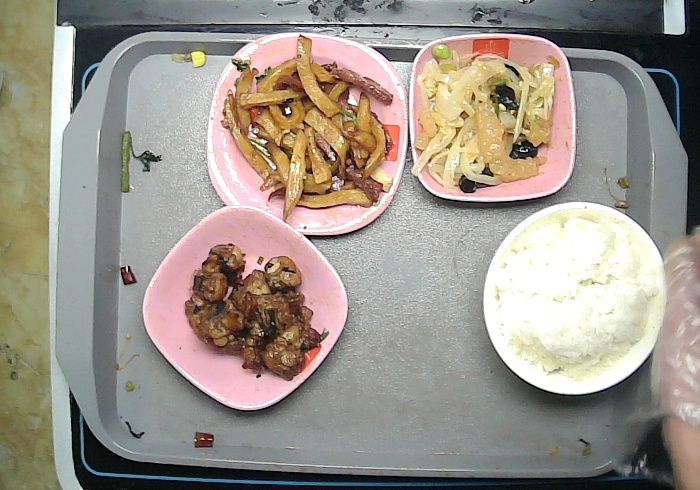SHKJ-Fan_Wan: (481, 201, 667, 398)
SHKJ-Fen_Se_Cai_Die: (136, 203, 348, 413)
SHKJ-Fen_Se_Si_Fang_Cai_Die: (204, 29, 411, 239)
SHKJ-Fen_Se_Xiao_Fang_Die: (406, 30, 584, 202)
